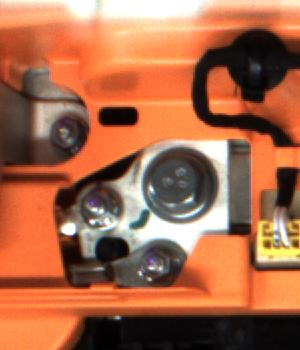nut_b: (138, 142, 223, 228)
screw_s: (45, 110, 88, 153), (78, 188, 122, 230), (133, 248, 177, 285)
